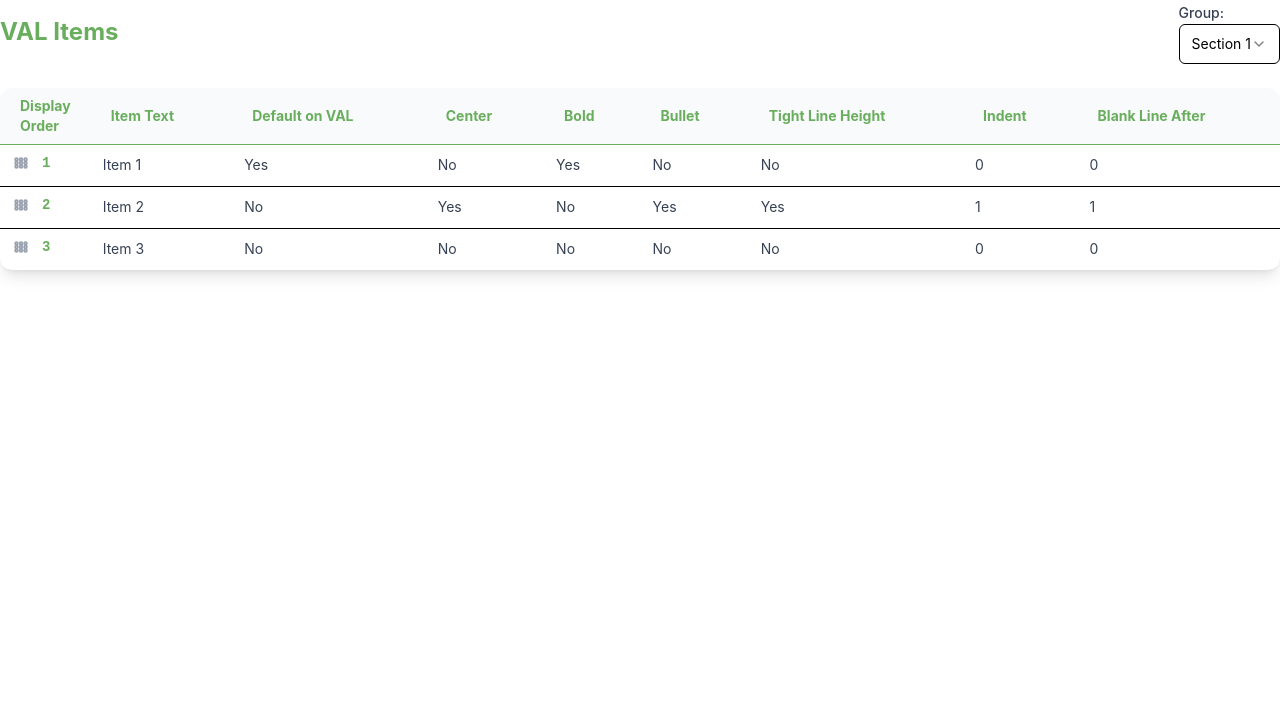
Test case: ManageValItems › closes edit dialog when Cancel is clicked
This screenshot has width=1280, height=720.
Click the text "Item 1".
click(122, 164)  # box [91,144,232,186]
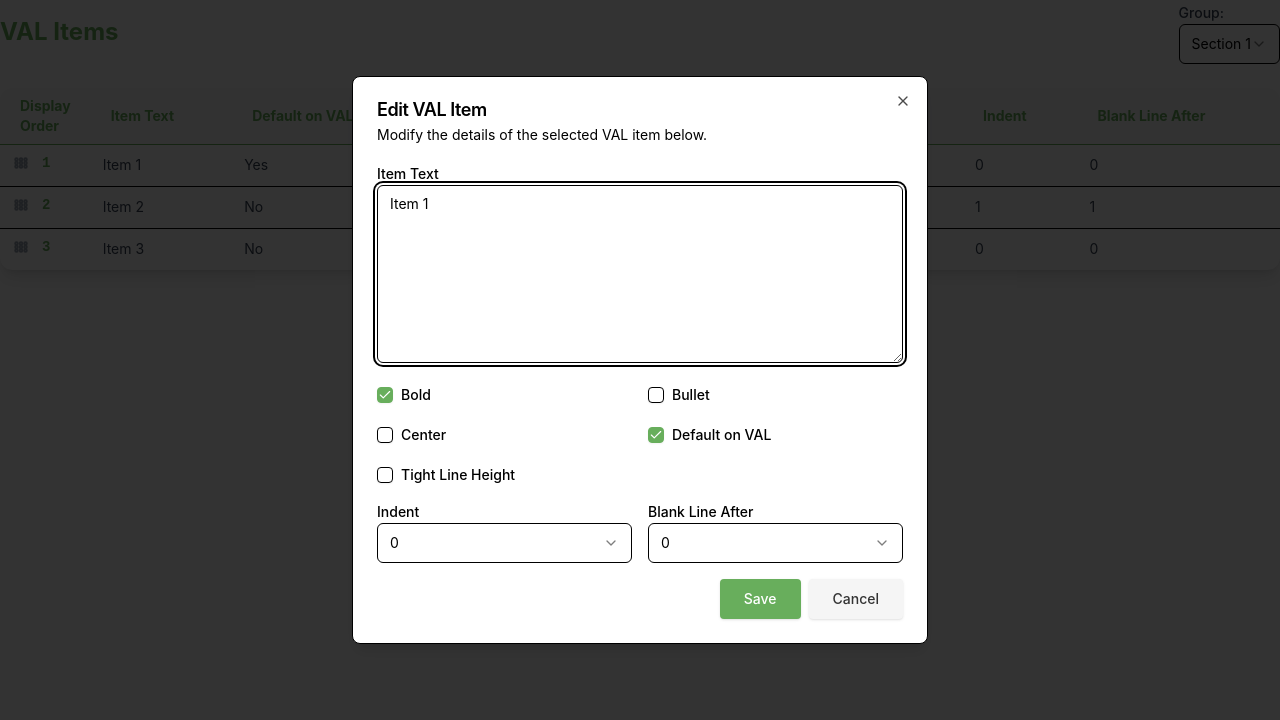
Click the button "Cancel".
click(856, 599)  # box [808,579,903,619]
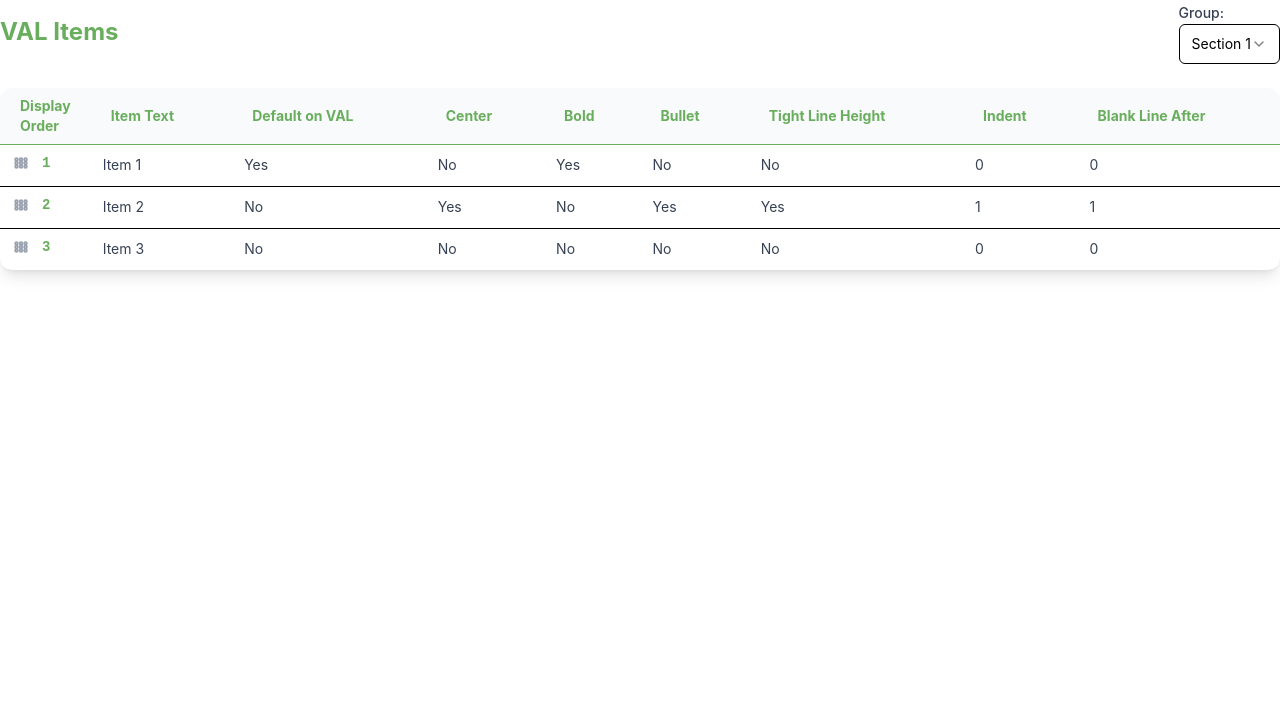
Expected: the heading "VAL Items" is shown, [0,16,118,48]
Result: the heading "Edit VAL Item" is gone
